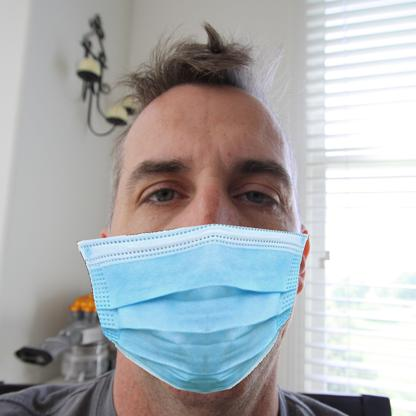mask: (73, 217, 315, 392)
